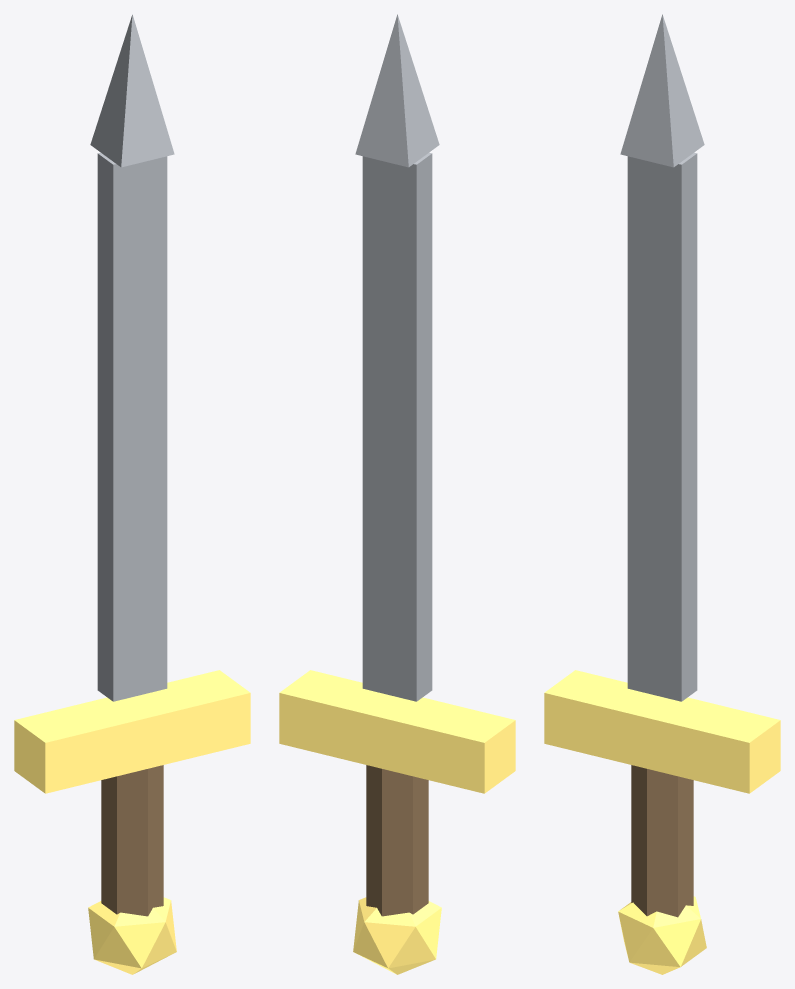
File: sword.glb
The picture shows the model from 3 angles, left to right: view 1: azimuth 30°, elevation 25°; view 2: azimuth 150°, elevation 25°; view 3: azimuth 330°, elevation 25°; orthographic projection.
Parts seen in each view (by area): view 1: SwordGrip; view 2: SwordGrip; view 3: SwordGrip.
Part boxes in pixels (x1,y1,x2,y2): SwordGrip: (14, 14, 250, 974); SwordGrip: (279, 14, 515, 974); SwordGrip: (544, 14, 780, 974).
Size of the model in its own units: 0.38 by 1.7 by 0.1361.
